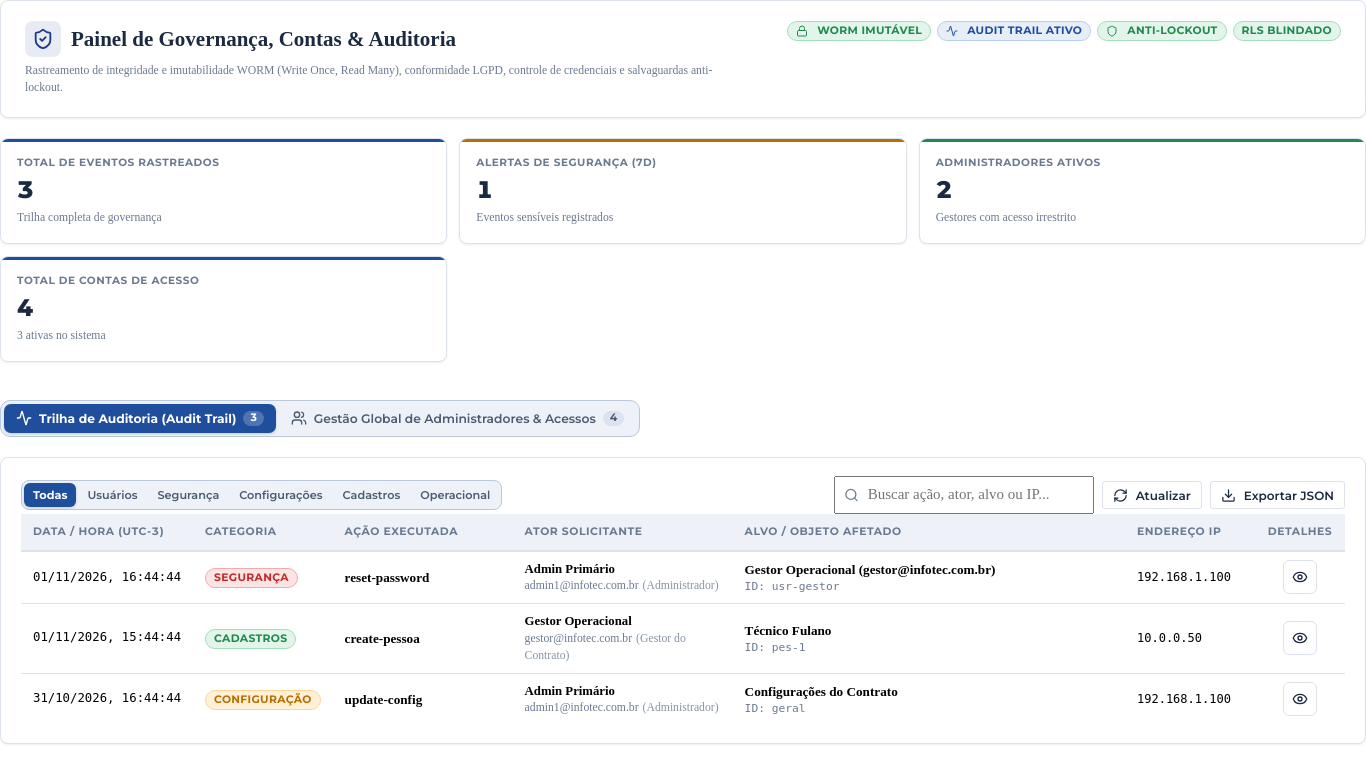
Test: AdminAuditView - Painel de Governança, Contas & Auditoria › 6. Abre modal de detalhes de log ao clicar no botão inspecionar
Expected: the text "reset-password" is shown, [333,551,513,604]
Click the button titled "Inspecionar payload" in the row of "01/11/2026, 16:44:44". click: (1300, 577)
box: [1283,560,1317,594]
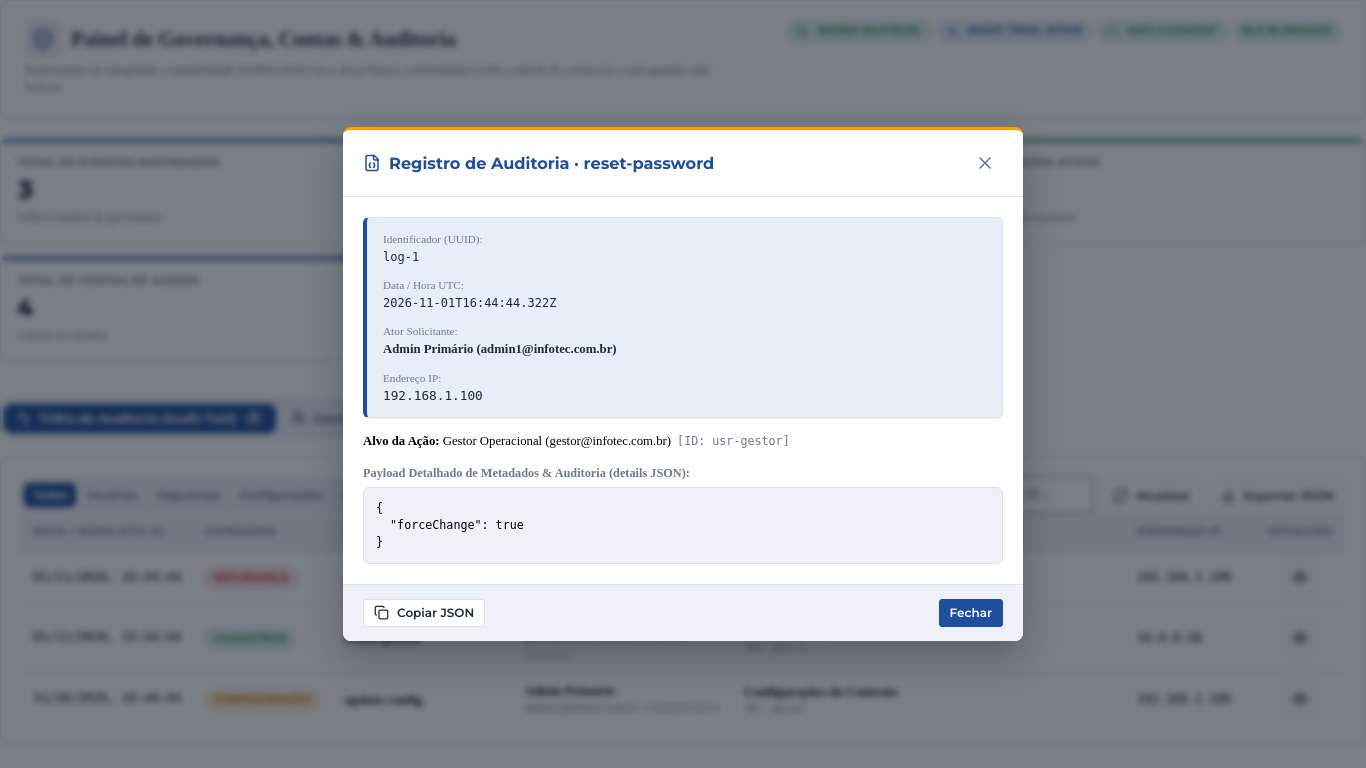
Now the text "Registro de Auditoria · reset-password" is shown, box [389,152,714,175]
Now the text "Identificador (UUID):" is shown, box [383,234,483,246]
Now the text "log-1" is shown, box [383,250,419,264]
# Fechar modal
Click the button "Fechar". click: (971, 612)
box: [939,598,1003,626]
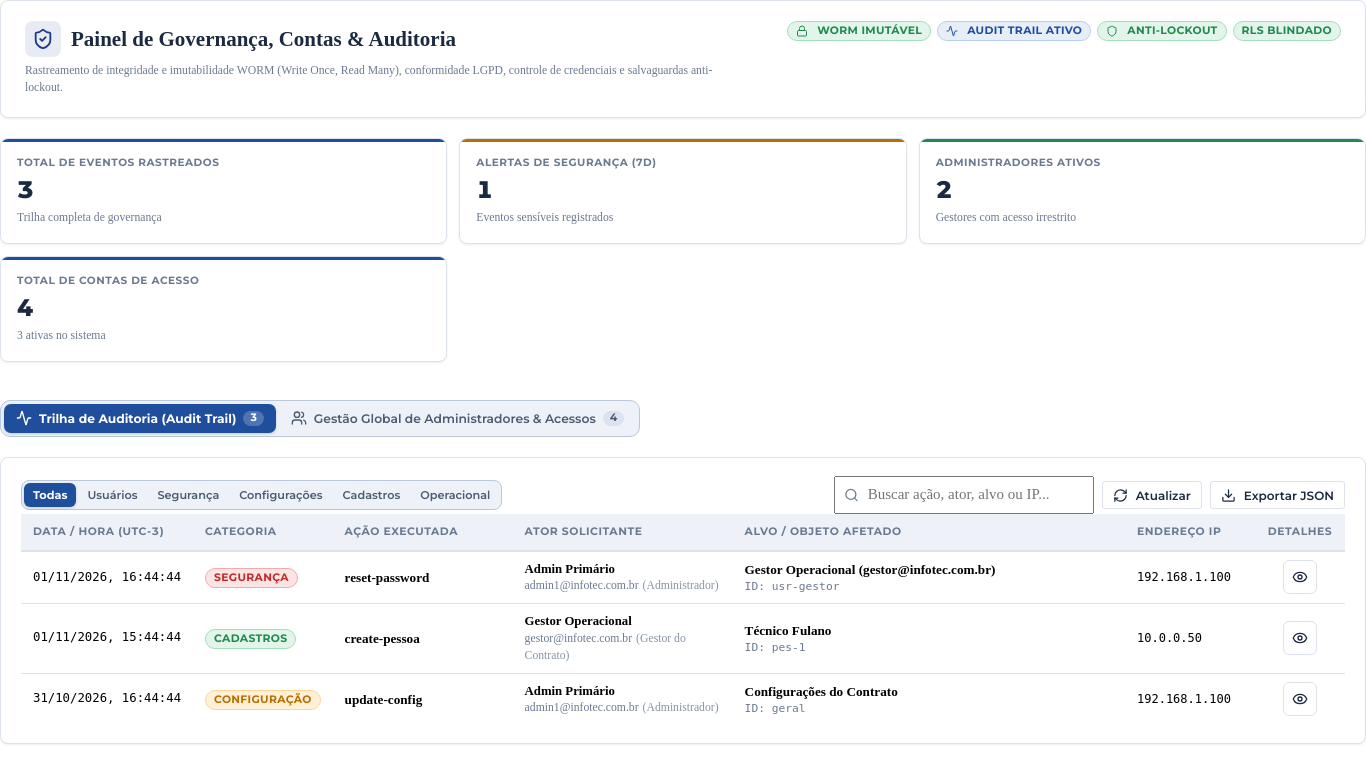
Now the text "Identificador (UUID):" is gone
